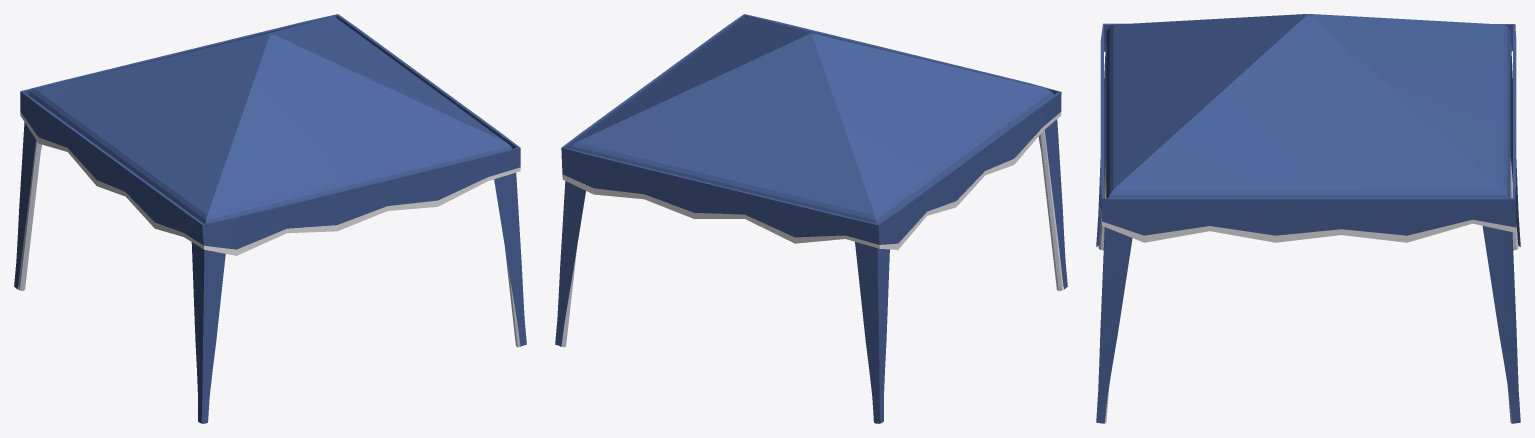
File: tent.fbx
3 views of the same model, side by side, from view 1: azimuth 30°, elevation 25°; view 2: azimuth 150°, elevation 25°; view 3: azimuth 270°, elevation 25° (orthographic). The views are drawn at different scales.
Parts seen in each view (by area): view 1: Tent; view 2: Tent; view 3: Tent.
Boxes of the visible parts, bbox=[...] form: Tent: bbox=[14, 14, 526, 423]; Tent: bbox=[555, 14, 1067, 423]; Tent: bbox=[1096, 14, 1520, 423].
Bounding box in the file's own units: 210 × 175 × 210.
1 material, 1 textured.
